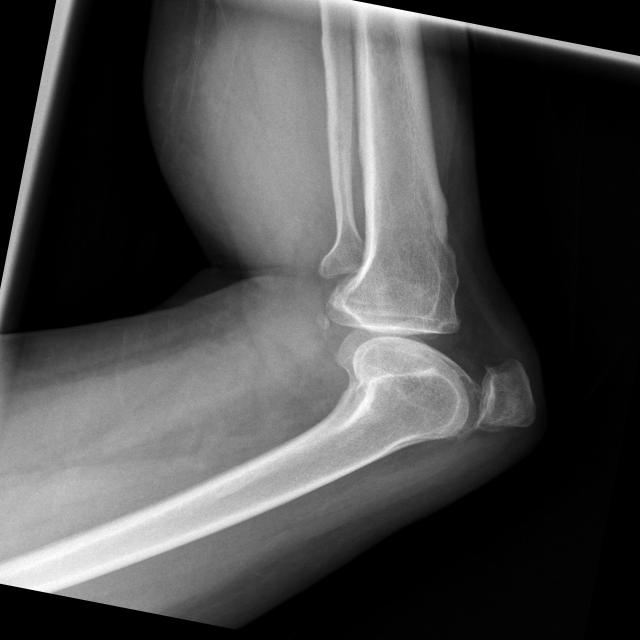Knee: (303, 239, 563, 461)
